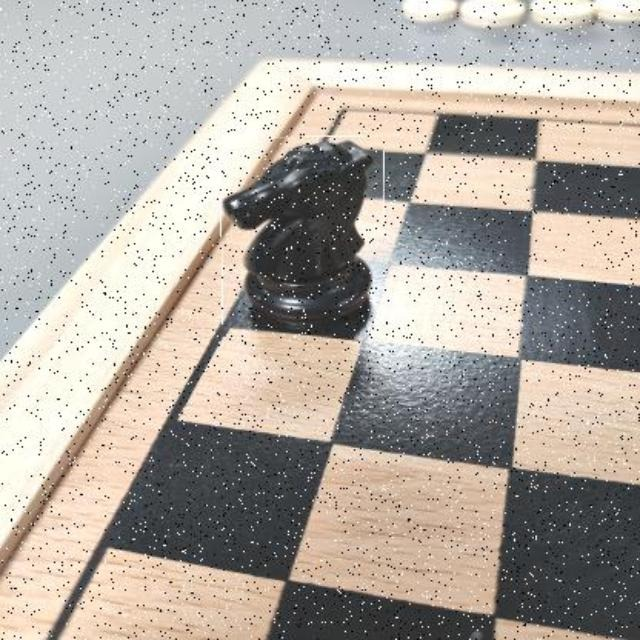black-knight: (221, 137, 385, 338)
